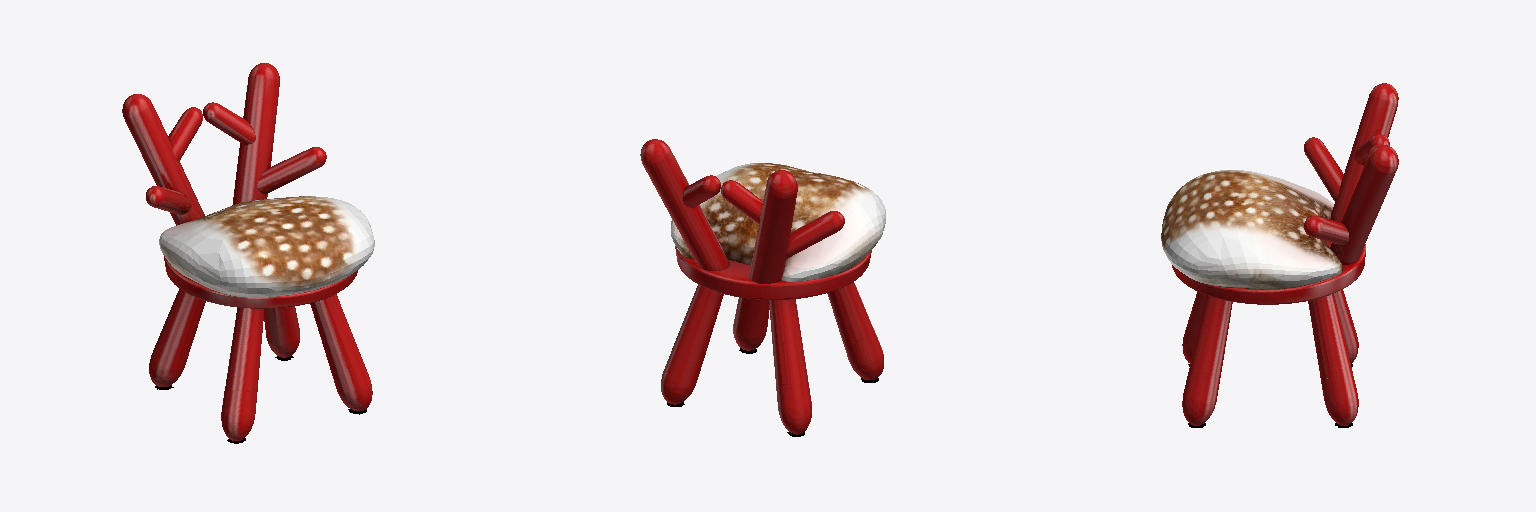
3 views of the same model, side by side, from view 1: azimuth 30°, elevation 25°; view 2: azimuth 150°, elevation 25°; view 3: azimuth 270°, elevation 25° (orthographic).
Visible parts, largest first — view 1: solid_001; view 2: solid_001; view 3: solid_001.
Part boxes in pixels (bbox=[...]): solid_001: bbox=[122, 63, 374, 440]; solid_001: bbox=[640, 139, 885, 434]; solid_001: bbox=[1161, 83, 1398, 425].
Size of the model in its own units: 0.3133 by 0.4004 by 0.345.
1 materials, 1 textured.